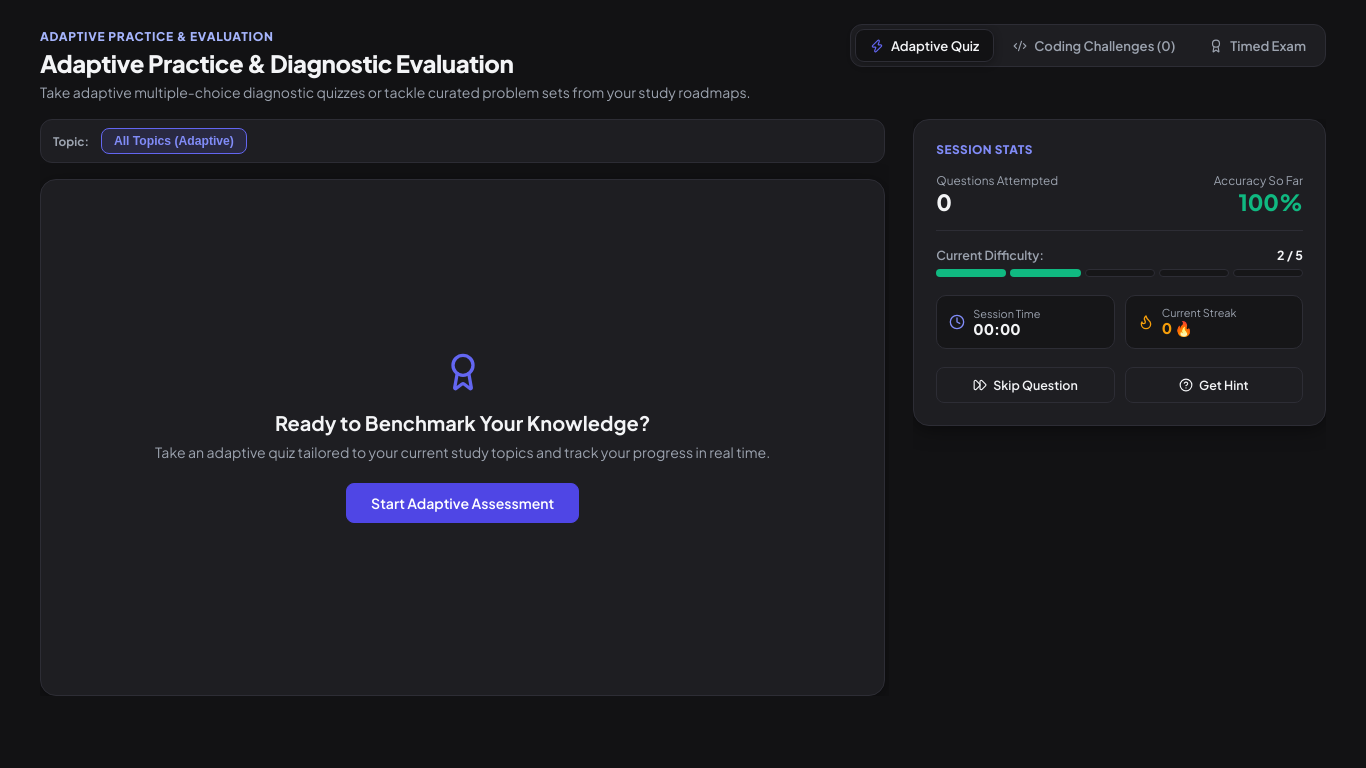
it: Sprint one view interactions › PracticeView reports exam generation errors and allows retry
The width and height of the screenshot is (1366, 768).
Click the button "Timed Exam". click: (1258, 46)
box: [1194,29,1321,62]
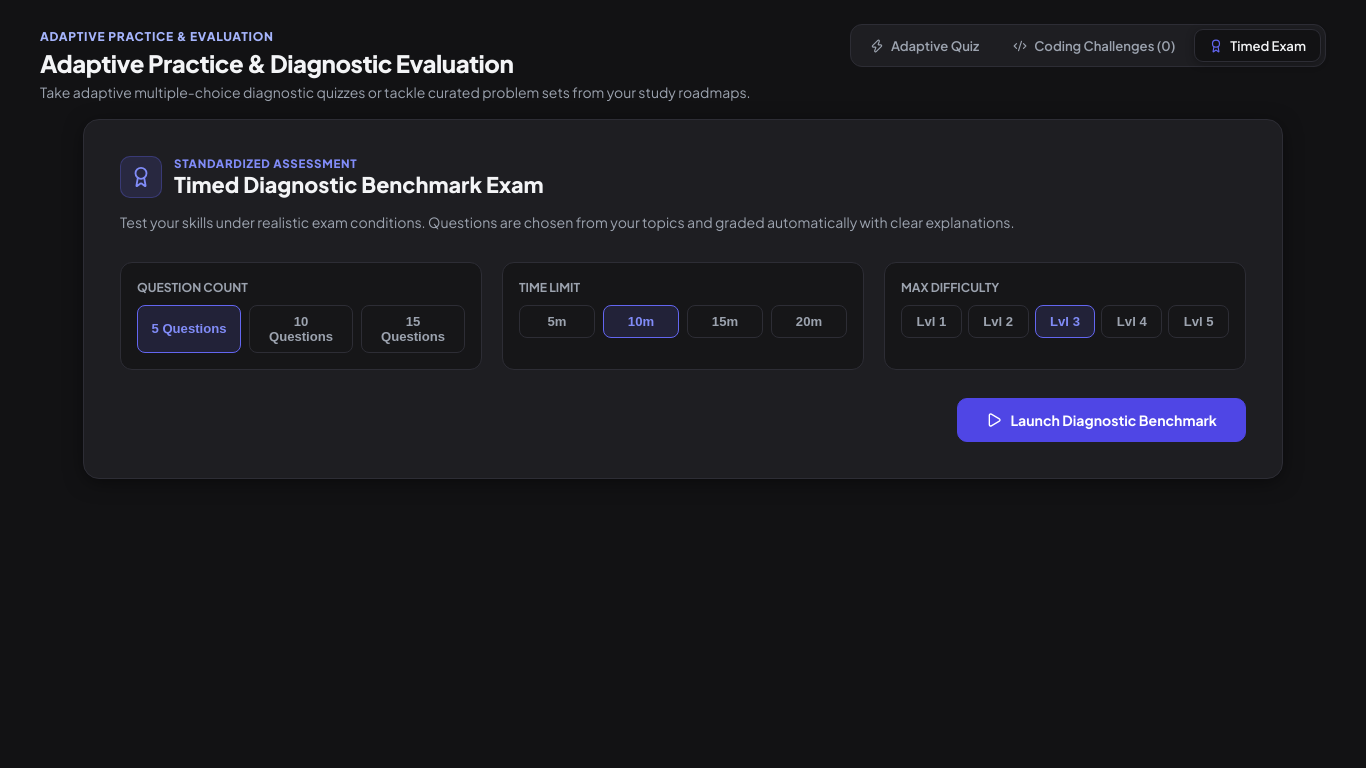
Click the button "10 Questions". click: (301, 329)
box: [249,305,353,353]
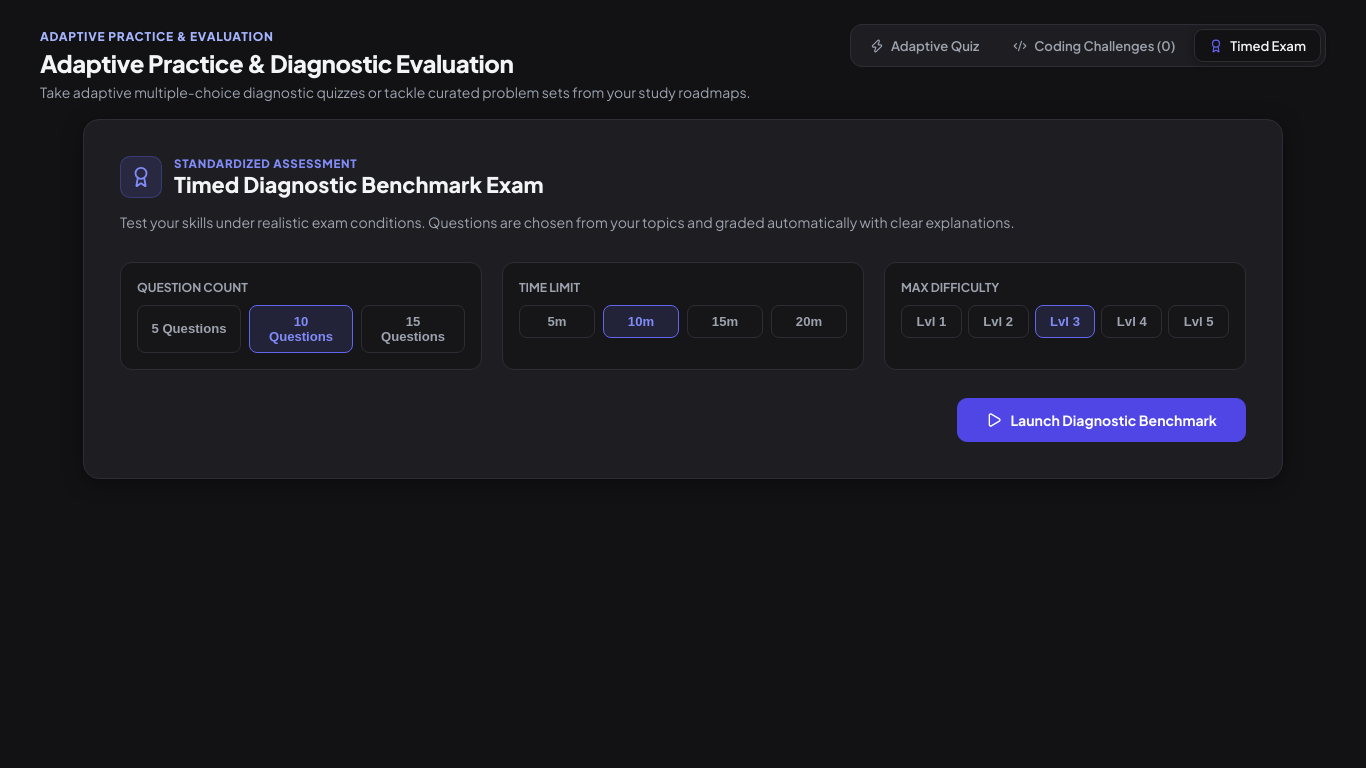
Click the button "5m". click: (557, 321)
box: [519,305,595,338]
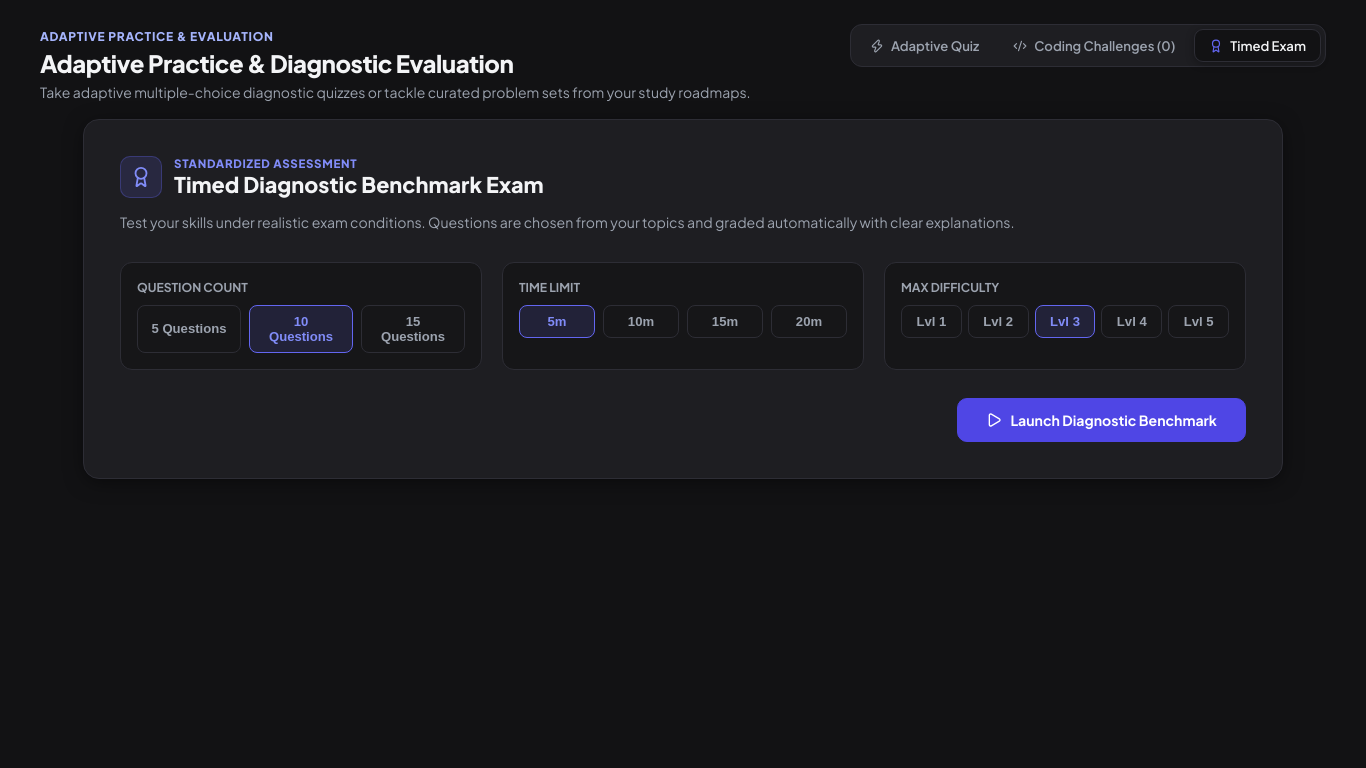
Click the button "Lvl 2". click: (998, 321)
box: [968,305,1029,338]
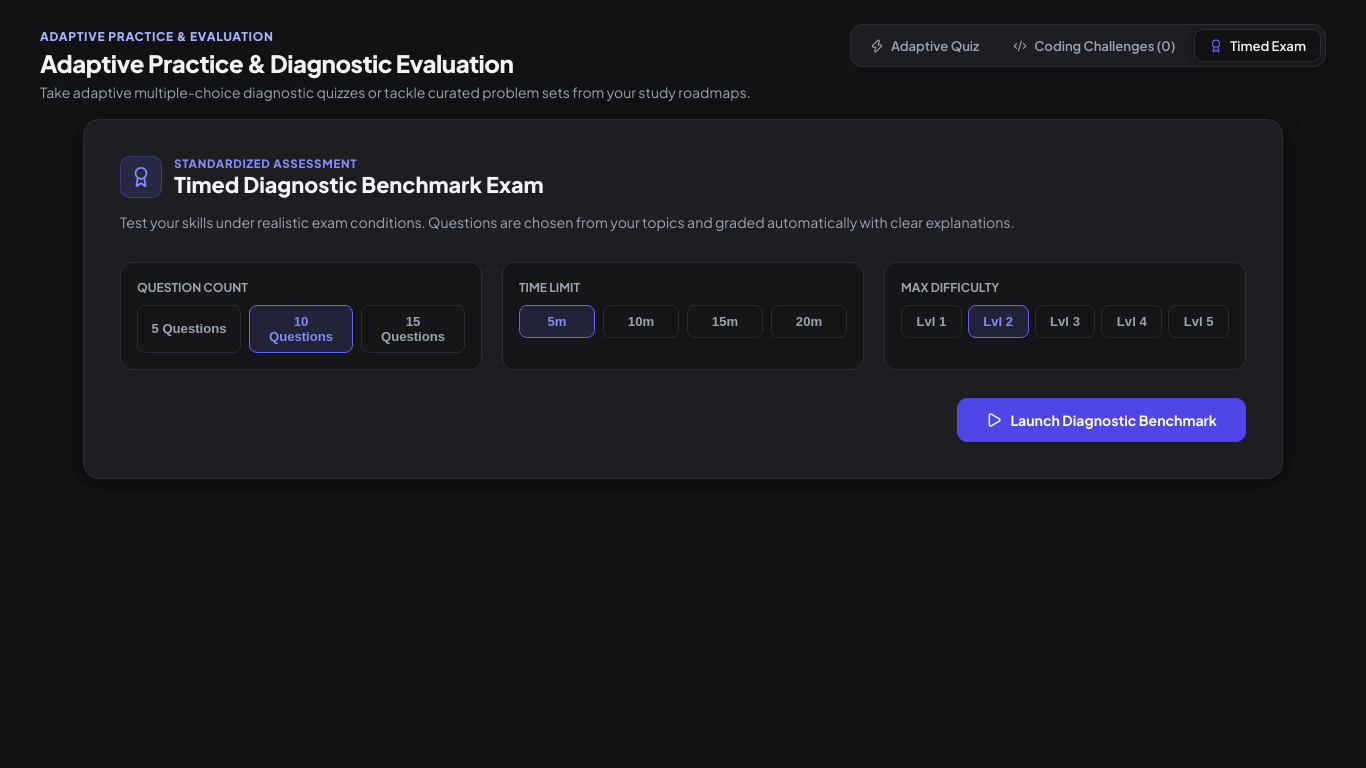
Click the button "Launch Diagnostic Benchmark". click: (1102, 420)
box: [957,398,1246,442]
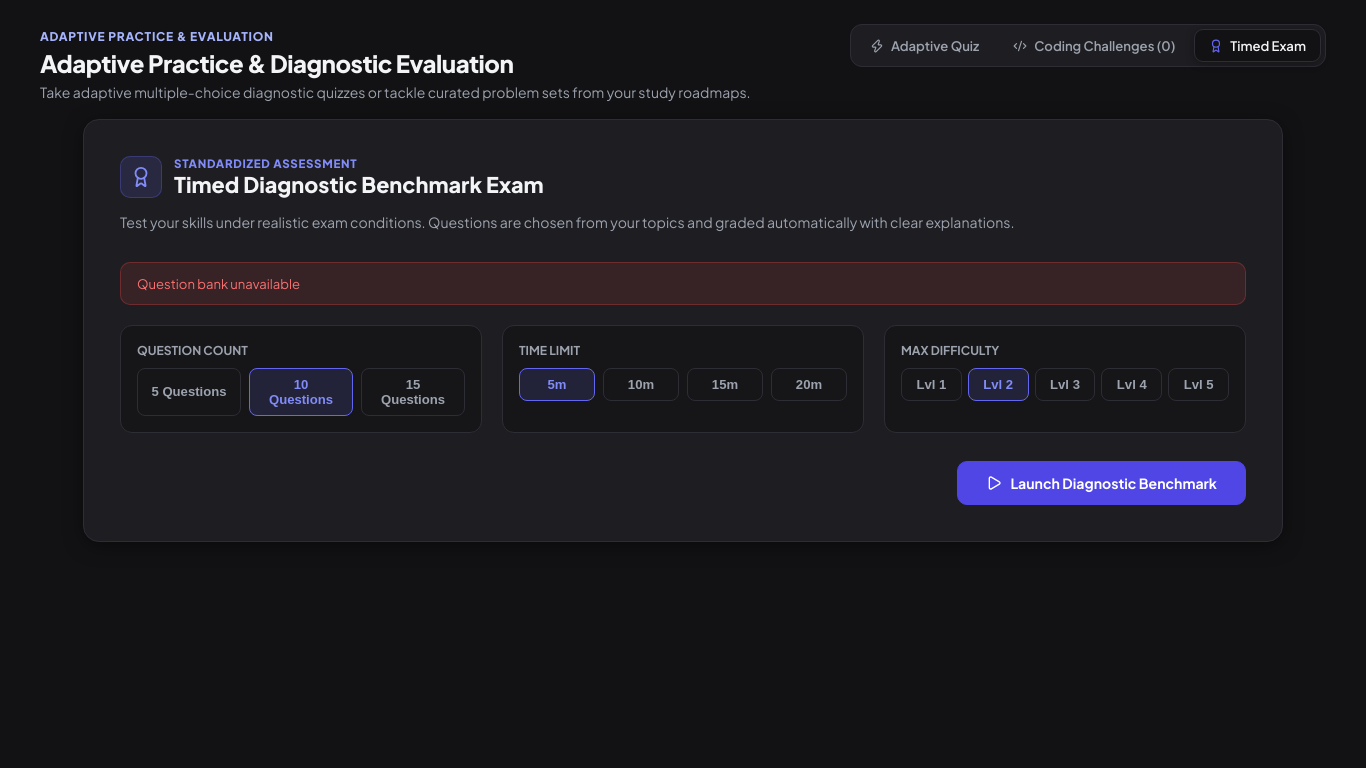
Now the text "Question bank unavailable" is shown, box [120,262,1246,305]
